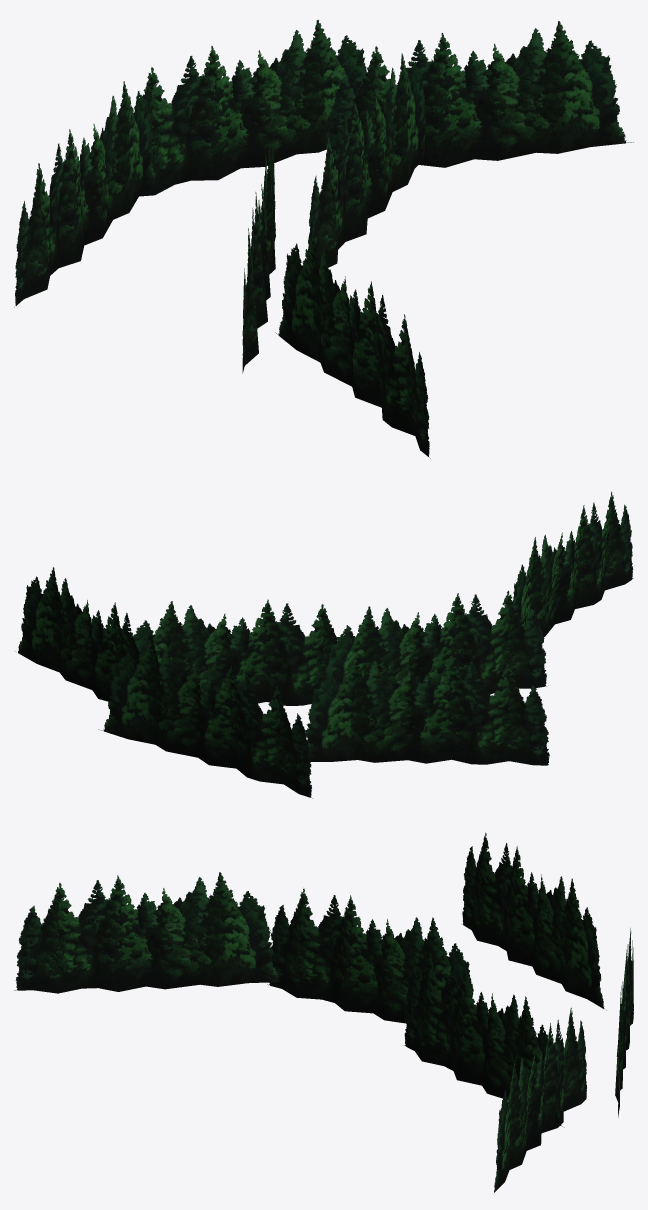
3 views of the same model, one above another, from view 1: azimuth 30°, elevation 25°; view 2: azimuth 150°, elevation 25°; view 3: azimuth 270°, elevation 25° (orthographic). The views are drawn at different scales.
Visible parts, largest first — view 1: sa00zkic01_001; view 2: sa00zkic01_001; view 3: sa00zkic01_001.
Boxes of the visible parts, x1,y1,x2,y2 form: sa00zkic01_001: (14, 19, 633, 458); sa00zkic01_001: (15, 491, 633, 798); sa00zkic01_001: (14, 832, 633, 1192).
Bounding box in the file's own units: 151 × 35.53 × 147.
Materials: 1 (1 with a texture image).
